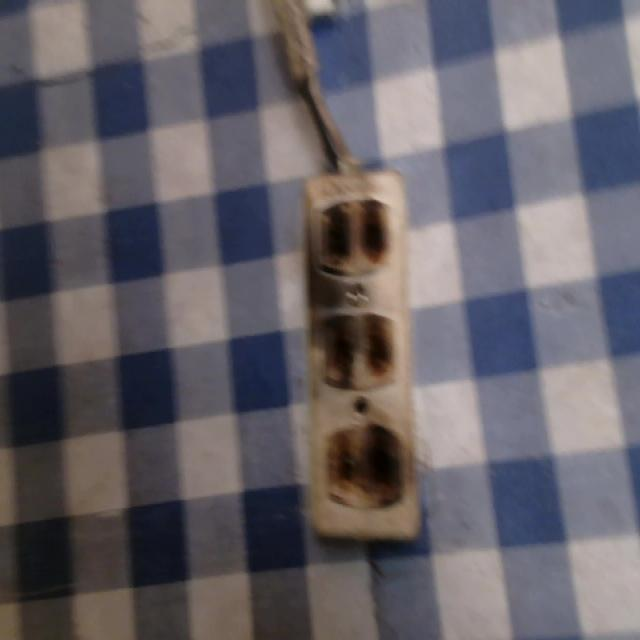-: (326, 421, 405, 508), (319, 195, 393, 273), (320, 312, 395, 385)
